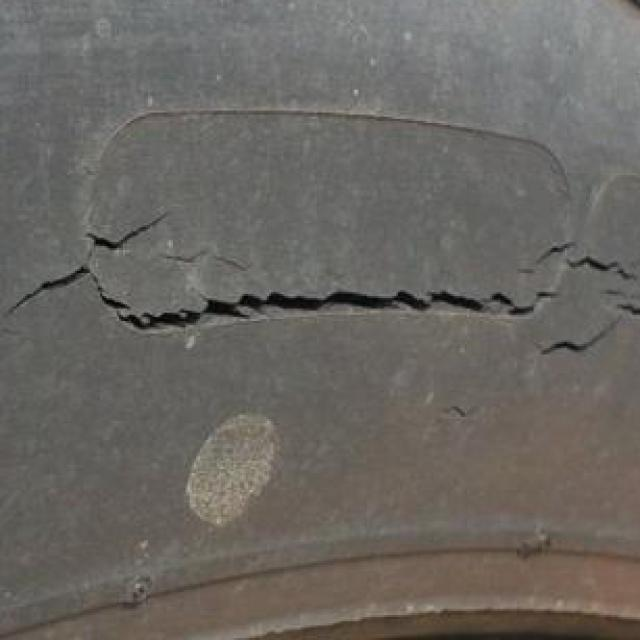Cracks: (0, 164, 638, 386)
